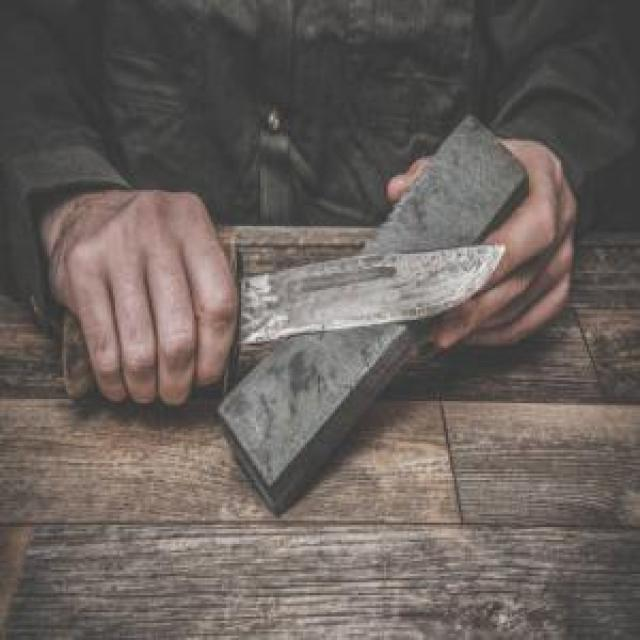knife: (47, 237, 508, 406)
